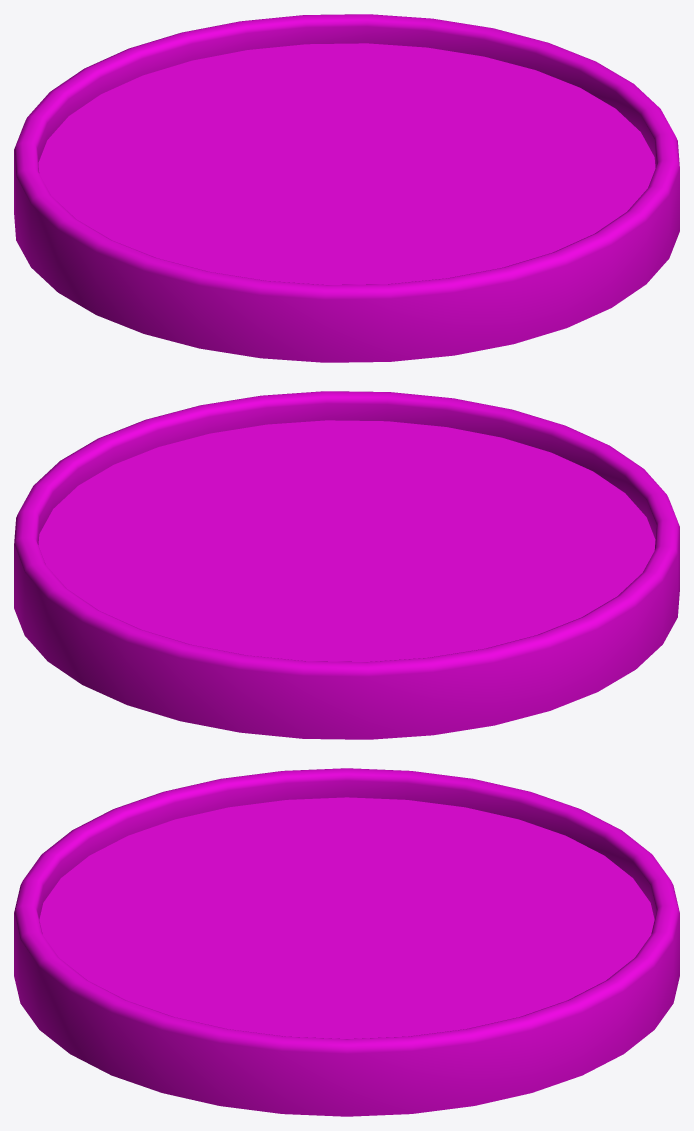
File: base frame.fbx
3 views of the same model, one above another, from view 1: azimuth 30°, elevation 25°; view 2: azimuth 150°, elevation 25°; view 3: azimuth 270°, elevation 25° (orthographic).
Parts seen in each view (by area): view 1: Circle; view 2: Circle; view 3: Circle.
Part boxes in pixels (bbox=[...]): Circle: bbox=[14, 14, 679, 362]; Circle: bbox=[14, 391, 679, 739]; Circle: bbox=[14, 768, 679, 1116].
Size of the model in its own units: 48.48 by 5.64 by 48.48.
